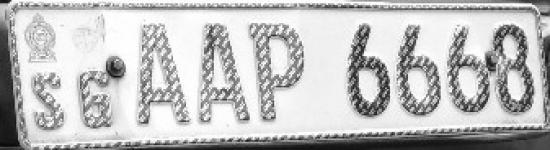6: (333, 20, 395, 119), (395, 21, 445, 119), (446, 18, 492, 117)
8: (493, 20, 541, 118)
A: (136, 23, 196, 127), (200, 23, 249, 128)
G: (77, 68, 120, 129)
P: (252, 24, 310, 124)
S: (27, 72, 69, 132)
